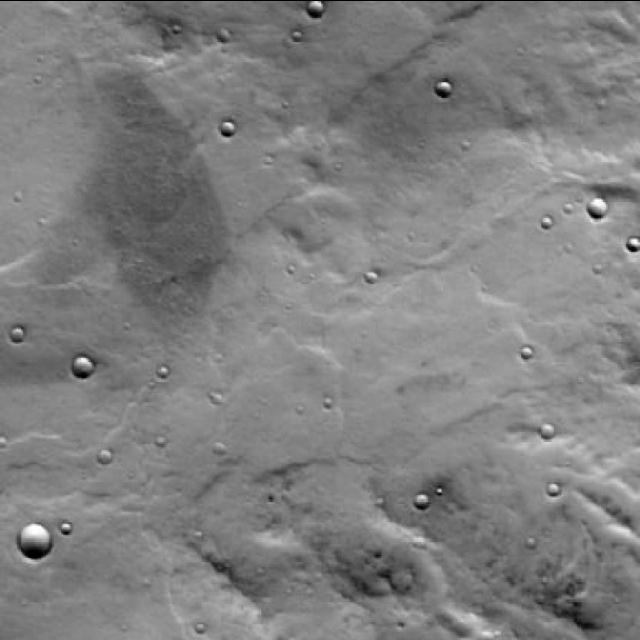crater: (19, 524, 55, 560), (72, 354, 94, 376), (586, 197, 606, 217), (437, 80, 454, 97), (218, 120, 234, 136)
